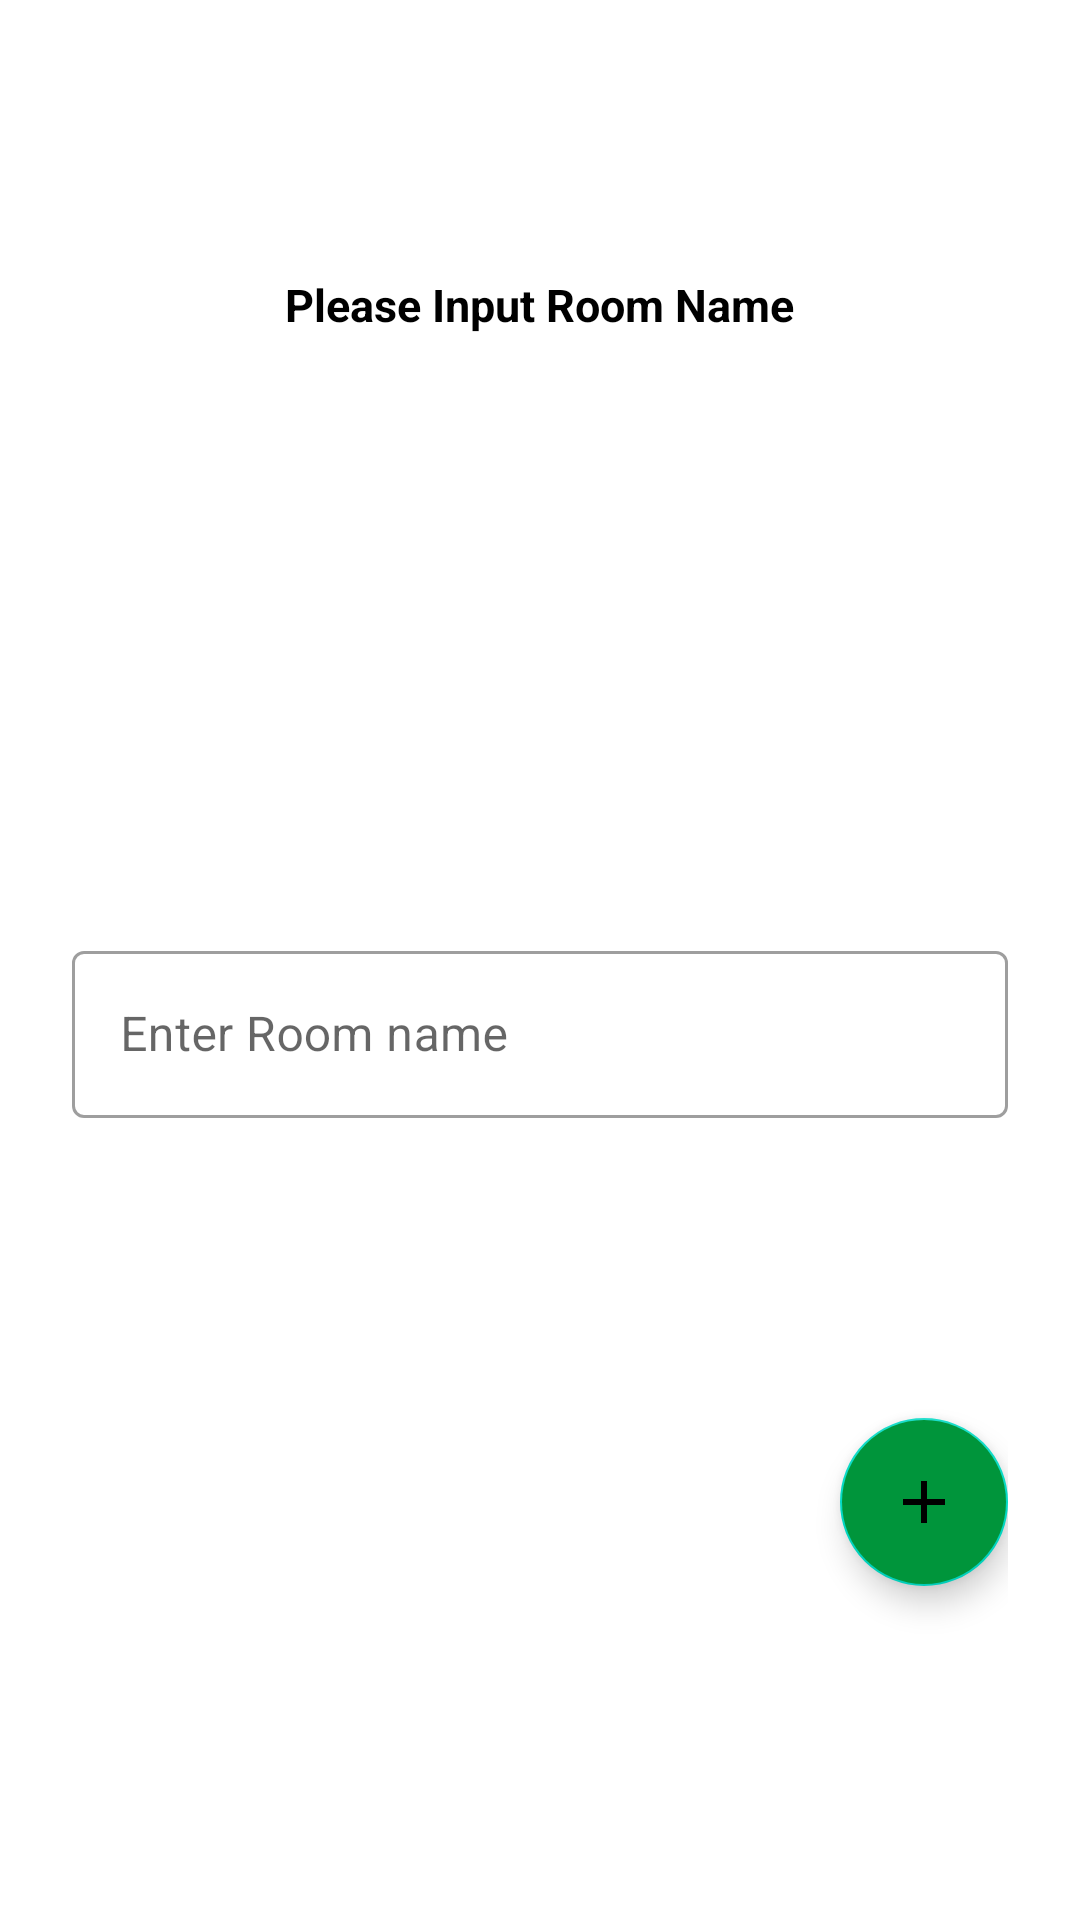

Icons on this 1080 x 1920 Android screen, each with the point to tap as (x=x, y=y):
add: (x=924, y=1502)
